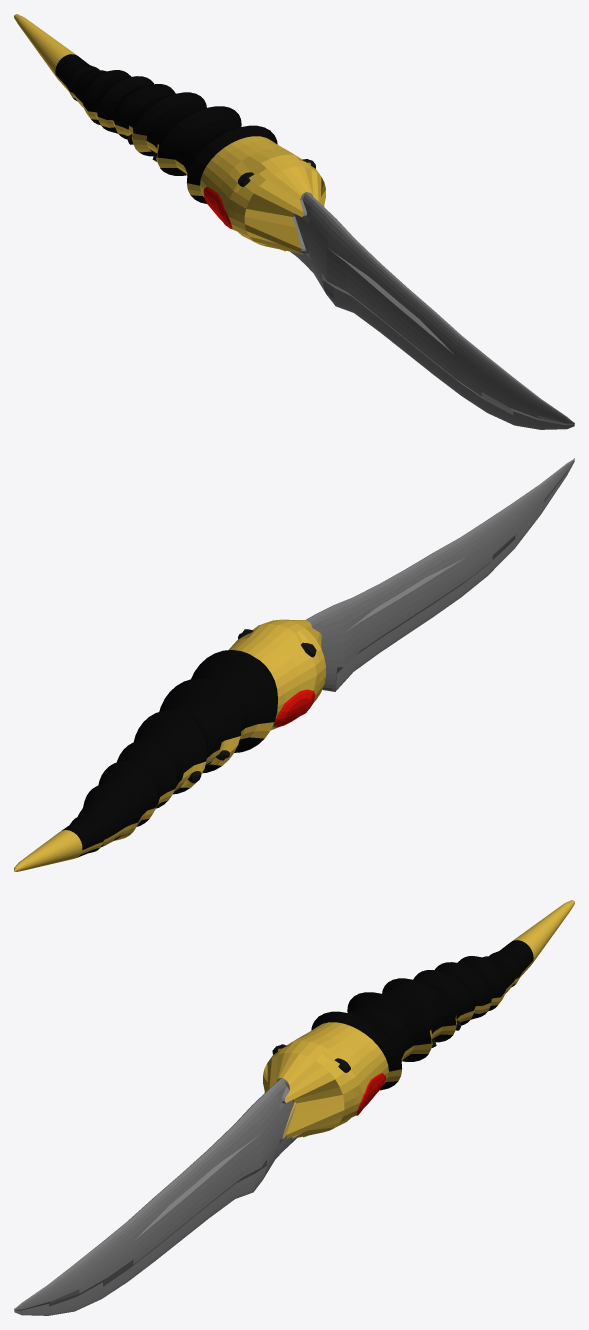
Rendered from smallsword.glb.
The picture shows the model from 3 angles, top to bottom: view 1: azimuth 30°, elevation 25°; view 2: azimuth 150°, elevation 25°; view 3: azimuth 330°, elevation 25°; orthographic projection.
Visible parts, largest first — view 1: Cerchio.003; view 2: Cerchio.003; view 3: Cerchio.003.
Boxes of the visible parts, <box> form: Cerchio.003: <box>14,14,574,429</box>; Cerchio.003: <box>14,458,574,871</box>; Cerchio.003: <box>14,900,574,1315</box>.
Size of the model in its own units: 2.29 by 2.66 by 24.55.
